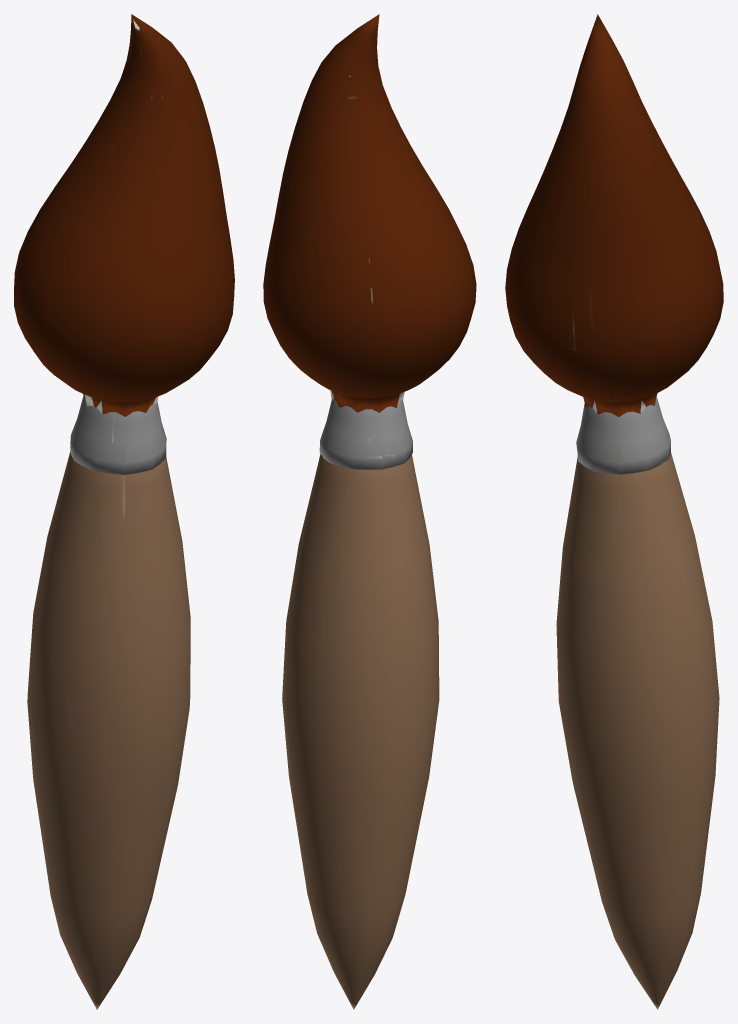
Rendered from paintbrush.glb.
The picture shows the model from 3 angles, left to right: view 1: azimuth 30°, elevation 25°; view 2: azimuth 150°, elevation 25°; view 3: azimuth 270°, elevation 25°; orthographic projection. The views are drawn at different scales.
Parts seen in each view (by area): view 1: disney_paintbrush_0; view 2: disney_paintbrush_0; view 3: disney_paintbrush_0.
Boxes of the visible parts, bbox=[...] form: disney_paintbrush_0: bbox=[14, 14, 234, 1009]; disney_paintbrush_0: bbox=[263, 14, 476, 1009]; disney_paintbrush_0: bbox=[505, 14, 723, 1009].
Size of the model in its own units: 0.2672 by 1.35 by 0.2677.
1 material, 1 textured.
